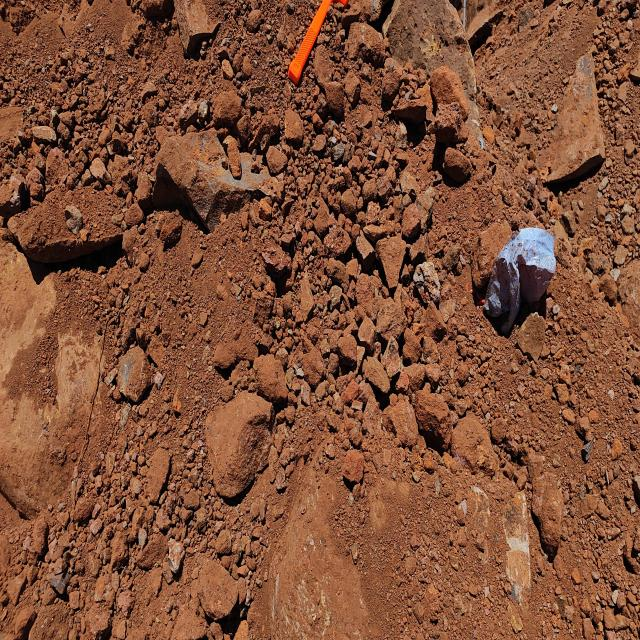Orange_hammer: (287, 0, 349, 86)
